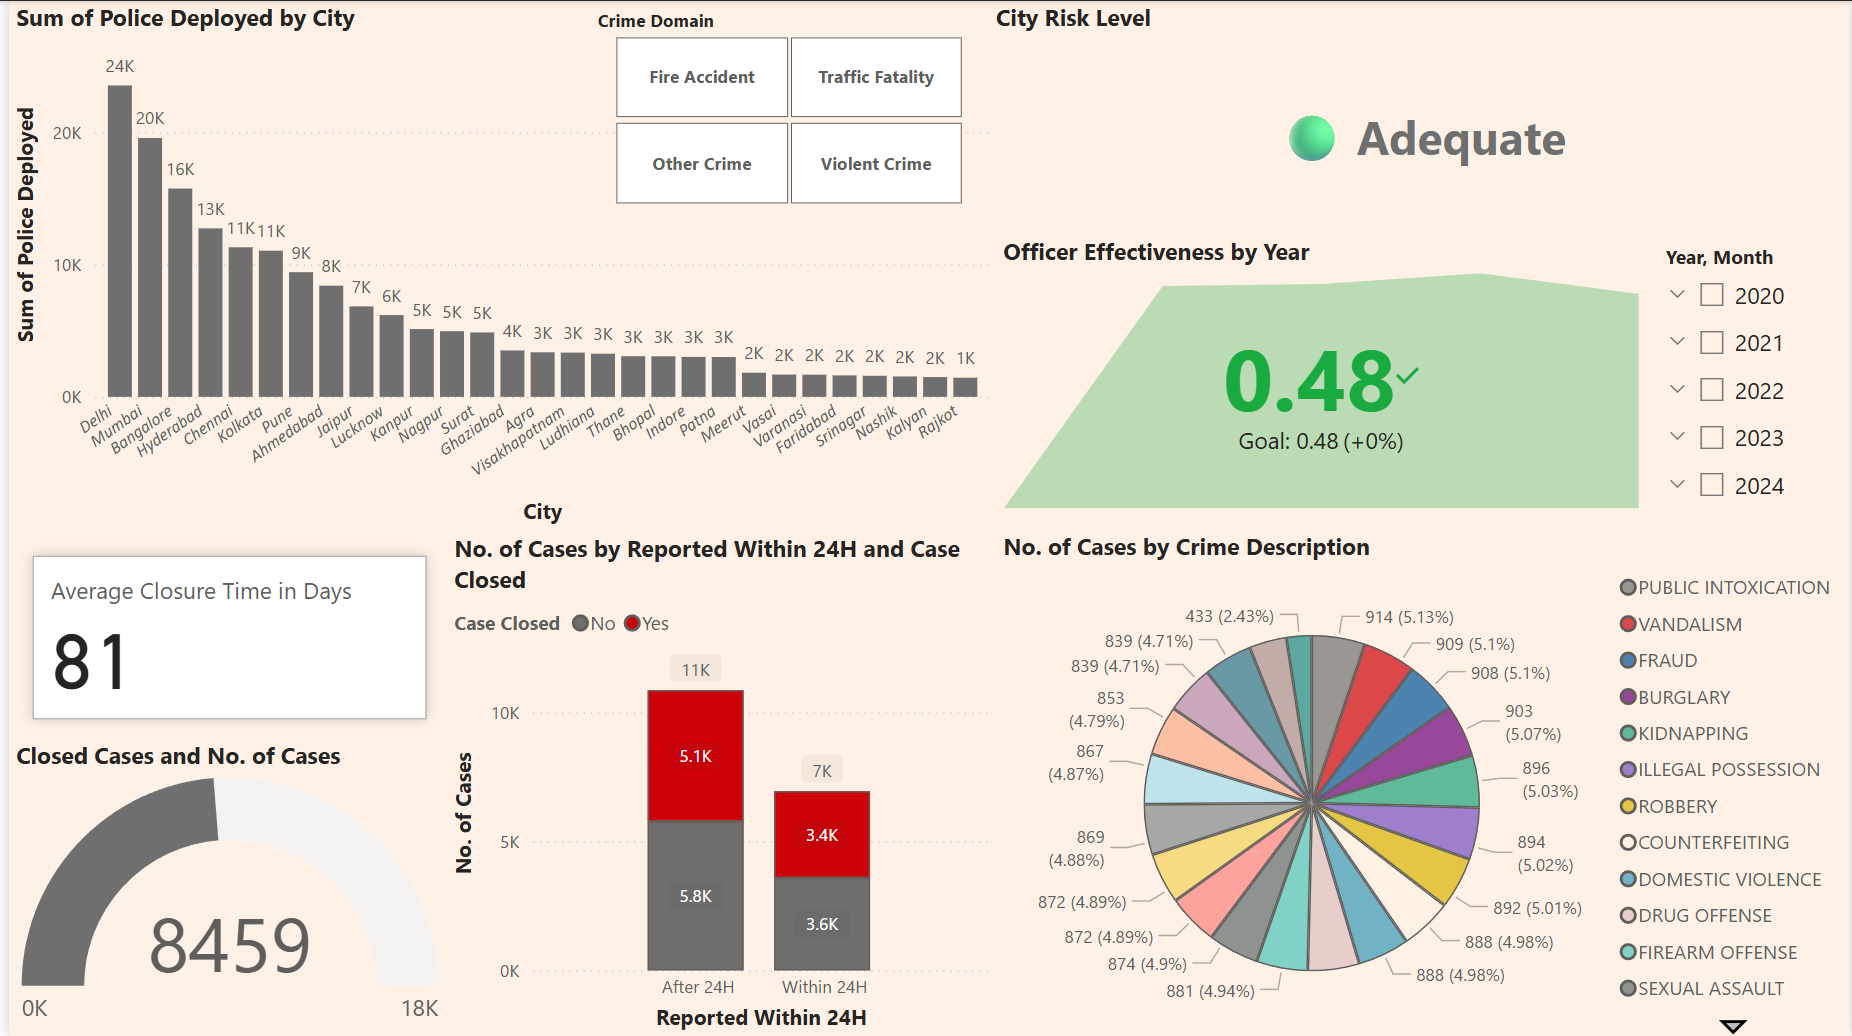

What the dashboard file says about the page in this screenshot:
{"tool":"powerbi","page":{"name":"Page 2","canvas":[1280,720],"ordinal":1},"visuals":[{"type":"columnChart","fields":{"Y":["Sum(crime_dataset_india.Police Deployed)"],"Category":["crime_dataset_india.City"]},"box":[0,0,686.2,368.8],"z":0},{"type":"cardVisual","title":"In Days","fields":{"Data":["crime_dataset_india.Average Closure Time"]},"box":[0,368.8,306.4,146.6],"z":1000},{"type":"pieChart","fields":{"Category":["crime_dataset_india.Crime Description"],"Y":["crime_dataset_india.No. of Cases"]},"box":[686,357.6,594.2,362.8],"z":2000},{"type":"slicer","fields":{"Values":["crime_dataset_india.Crime Domain"]},"box":[396.2,0,290,147.7],"z":3000},{"type":"columnChart","fields":{"Category":["crime_dataset_india.Reported Within 24H"],"Y":["crime_dataset_india.No. of Cases"],"Series":["crime_dataset_india.Case Closed"]},"box":[304.4,369,381.6,351.3],"z":4000},{"type":"card","title":"City Risk Level","fields":{"Values":["crime_dataset_india.City Risk Level"]},"box":[686.2,0,594.2,163.1],"z":5000},{"type":"gauge","fields":{"Y":["crime_dataset_india.Closed Cases"],"MaxValue":["crime_dataset_india.No. of Cases"]},"box":[0,512.9,306.5,207.5],"z":6000},{"type":"kpi","title":"Officer Effectiveness by Year","fields":{"Indicator":["crime_dataset_india.OfficerEffectiveness"],"Goal":["crime_dataset_india.OverallOfficerEffectiveness"],"TrendLine":["crime_dataset_india.Date Reported.Variation.Date Hierarchy.Year"]},"box":[686.2,163.1,452,194.8],"z":7000},{"type":"slicer","fields":{"Values":["crime_dataset_india.Date of Occurrence.Variation.Date Hierarchy.Year","crime_dataset_india.Date of Occurrence.Variation.Date Hierarchy.Month"]},"box":[1138.5,162.6,141.9,195.4],"z":8000}]}

Visuals, with their boxes in screenshot pixels (x1, y1, x2, y2), scaled from the page's 1280x720 canvas onto the 1852x1036 screenshot:
columnChart - Sum(crime_dataset_india.Police Deployed) x crime_dataset_india.City: {"left": 0, "top": 0, "right": 993, "bottom": 531}
"In Days" cardVisual: {"left": 0, "top": 531, "right": 443, "bottom": 742}
pieChart - crime_dataset_india.Crime Description x crime_dataset_india.No. of Cases: {"left": 993, "top": 515, "right": 1851, "bottom": 1035}
slicer - crime_dataset_india.Crime Domain: {"left": 573, "top": 0, "right": 993, "bottom": 213}
columnChart - crime_dataset_india.Reported Within 24H x crime_dataset_india.No. of Cases: {"left": 440, "top": 531, "right": 993, "bottom": 1035}
"City Risk Level" card: {"left": 993, "top": 0, "right": 1851, "bottom": 235}
gauge - crime_dataset_india.Closed Cases x crime_dataset_india.No. of Cases: {"left": 0, "top": 738, "right": 443, "bottom": 1035}
"Officer Effectiveness by Year" kpi: {"left": 993, "top": 235, "right": 1647, "bottom": 515}
slicer - crime_dataset_india.Date of Occurrence.Variation.Date Hierarchy.Year x crime_dataset_india.Date of Occurrence.Variation.Date Hierarchy.Month: {"left": 1647, "top": 234, "right": 1851, "bottom": 515}
